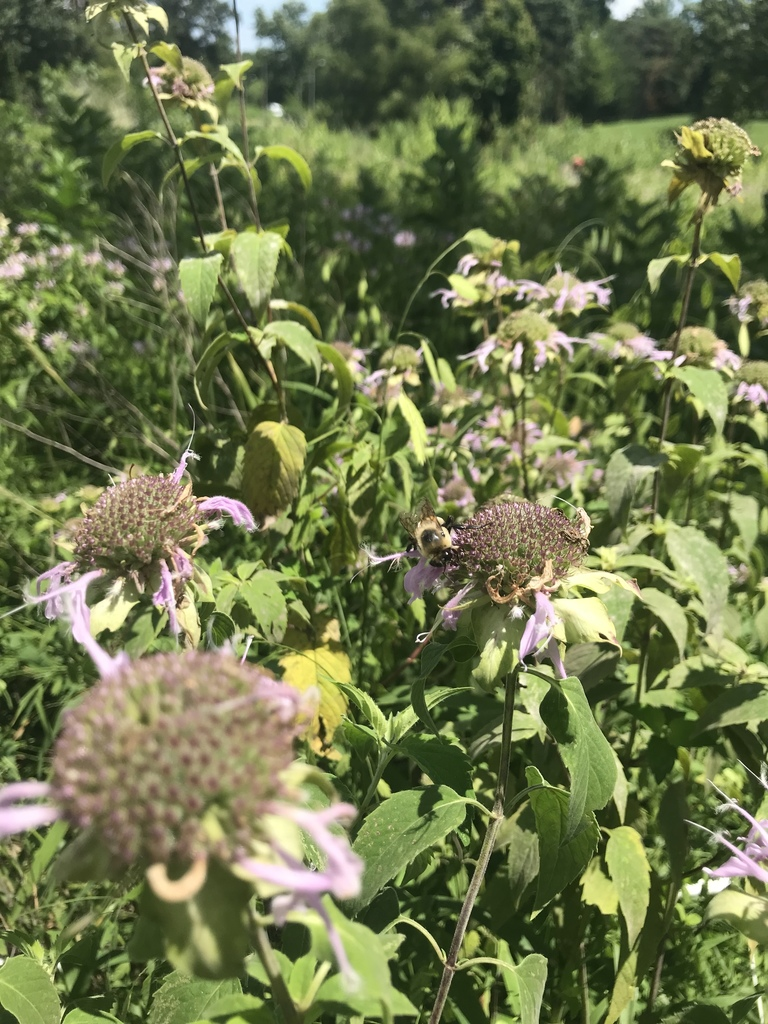bumblebee: (400, 494, 466, 570)
